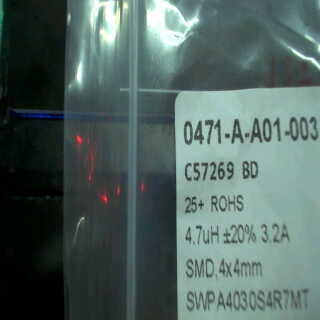4.7uH: (180, 223, 225, 247)
